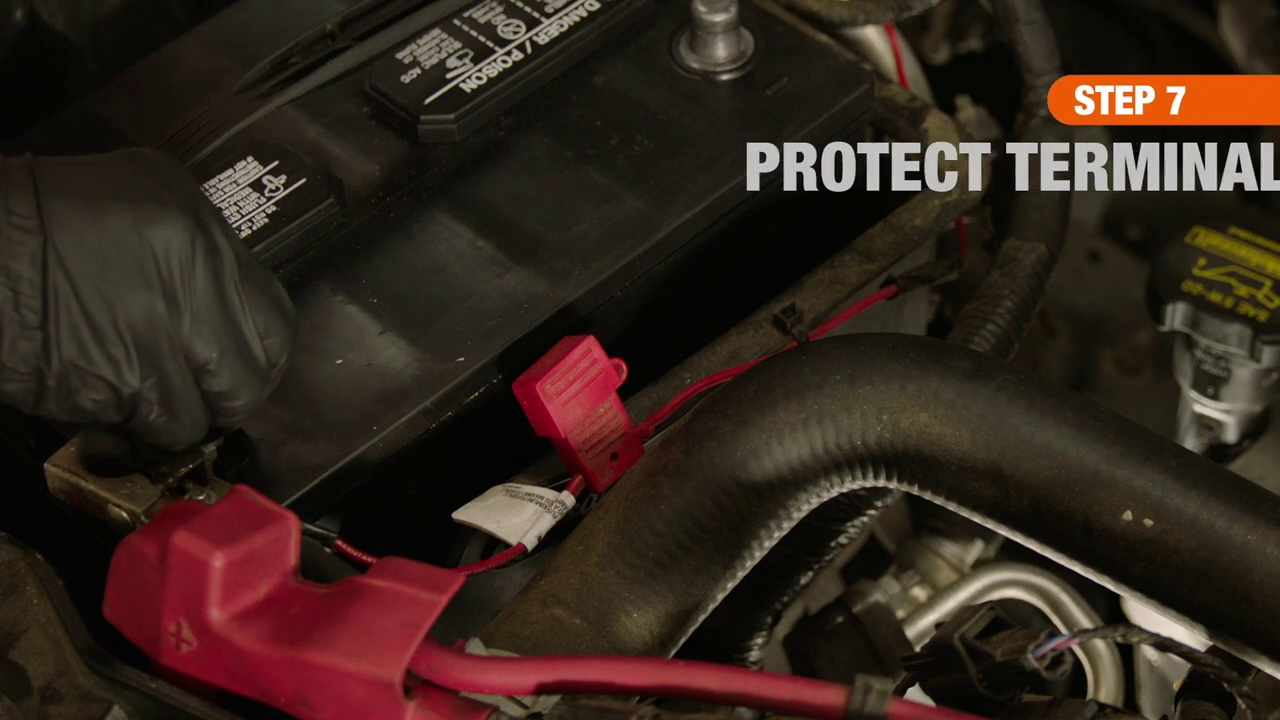battery: (46, 7, 878, 618)
neg_disconnected: (626, 1, 821, 121)
pos_touched: (55, 267, 282, 619)
